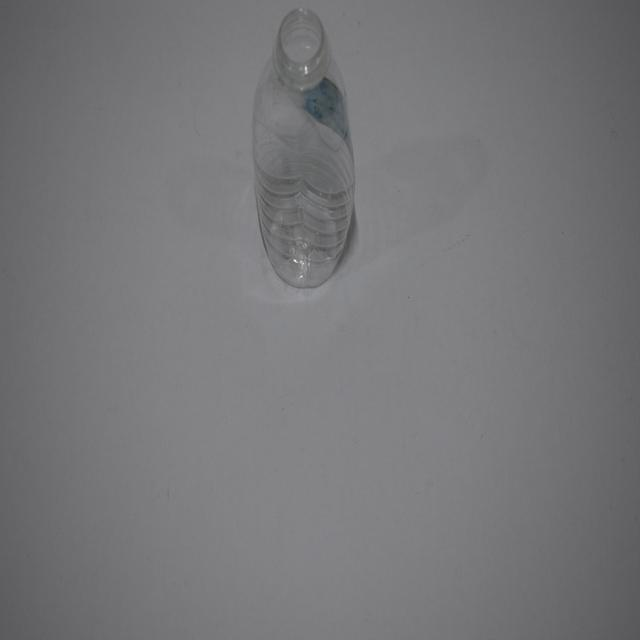bottle: (248, 19, 358, 275)
